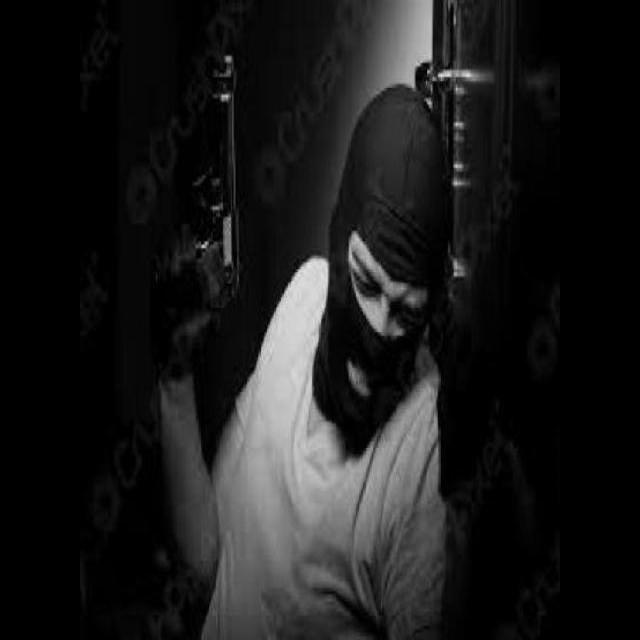6_pasamontana: (316, 84, 456, 424)
